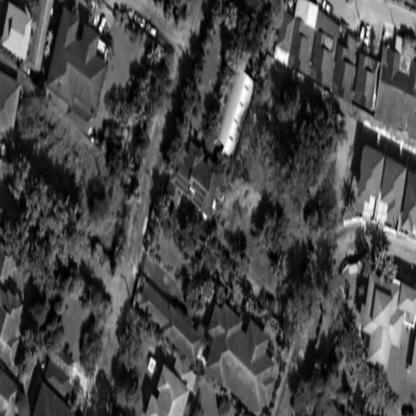solar-pv-panel: (175, 173, 206, 210)
